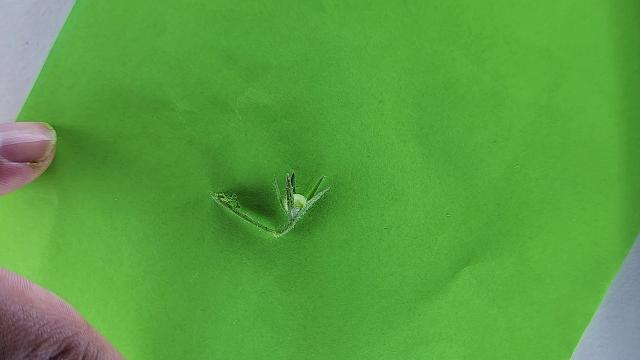Fruit Bud: (272, 169, 327, 227)
